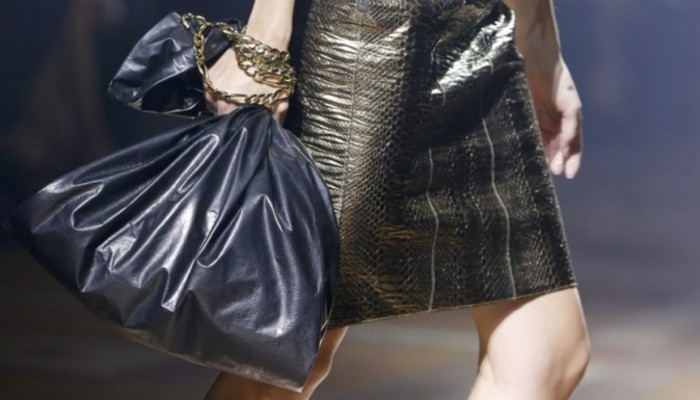plastic bag: (5, 12, 343, 393)
